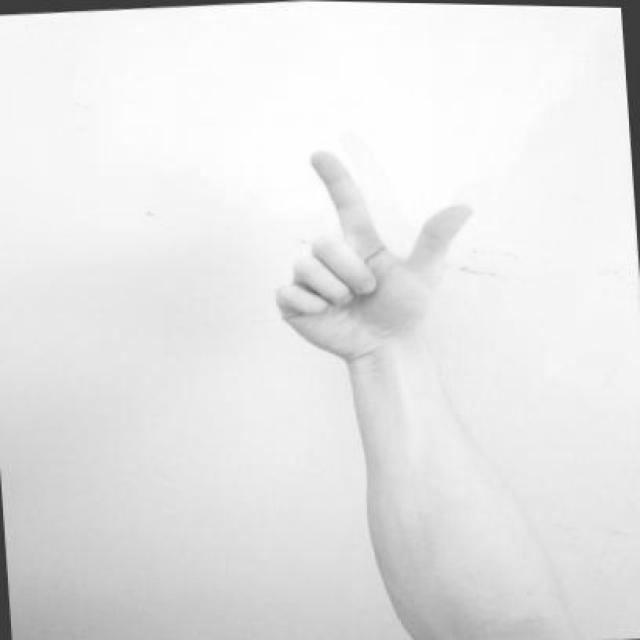L: (259, 133, 489, 369)
